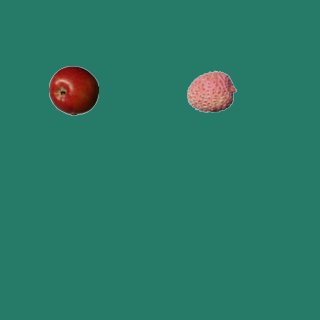Apple Braeburn: (48, 65, 98, 115)
Lychee: (186, 66, 236, 116)
